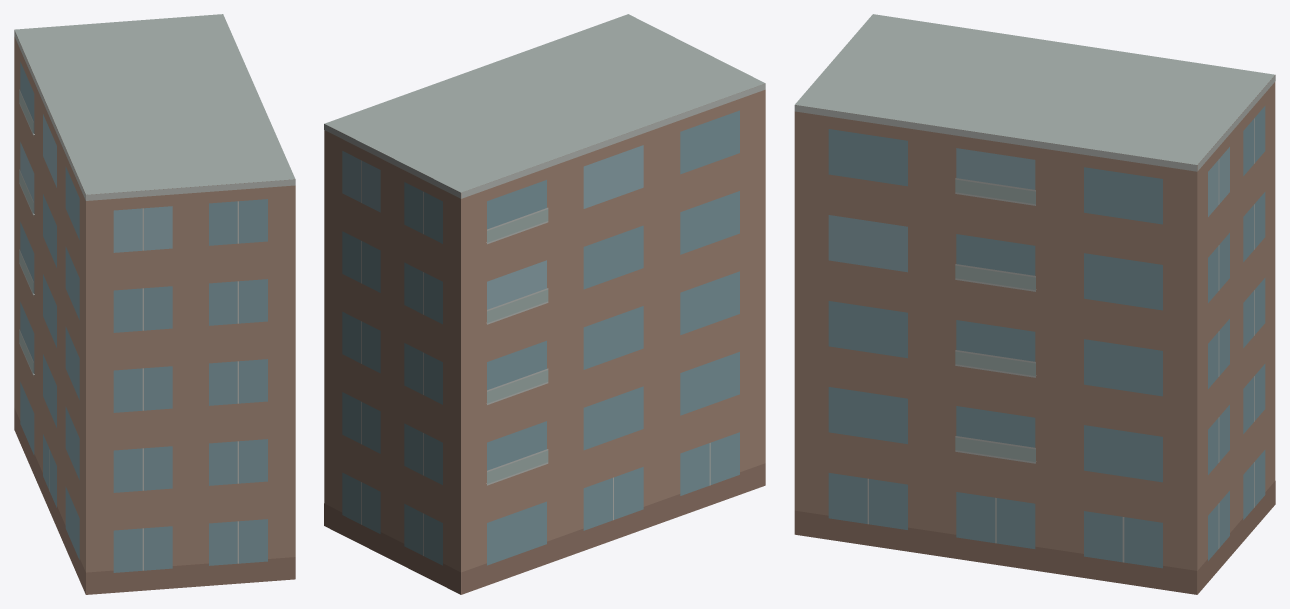
Rendered from survey-upis-32885790.glb.
3 renders of one model, left to right at view 1: azimuth 30°, elevation 25°; view 2: azimuth 150°, elevation 25°; view 3: azimuth 270°, elevation 25°, orthographic. The views are drawn at different scales.
Visible parts, largest first — view 1: survey-upis-32885790.tmp; view 2: survey-upis-32885790.tmp; view 3: survey-upis-32885790.tmp.
Part boxes in pixels (left/top/right/bottom): survey-upis-32885790.tmp: left=14, top=14, right=295, bottom=594; survey-upis-32885790.tmp: left=324, top=14, right=765, bottom=594; survey-upis-32885790.tmp: left=794, top=14, right=1275, bottom=594.
Bounding box in the file's own units: 11.92 × 15.8 × 16.03.
